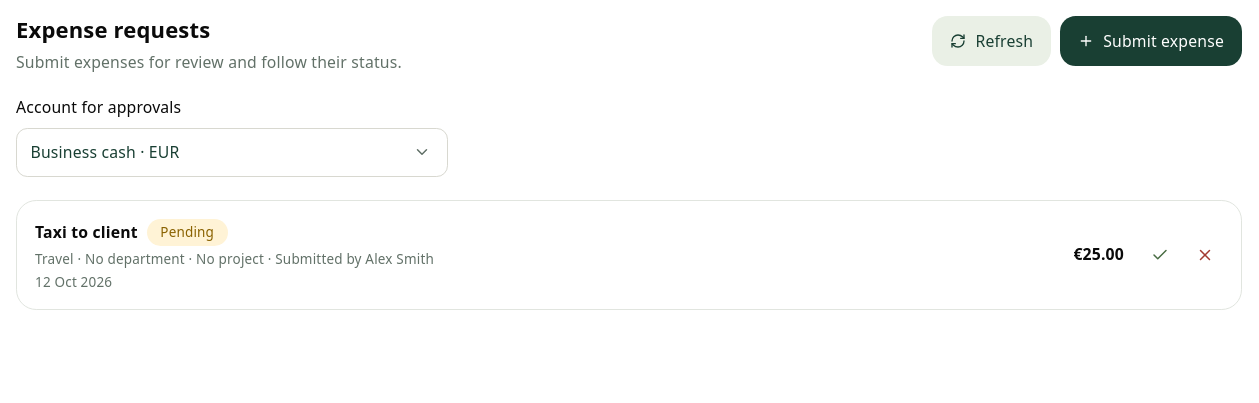
it: keeps a failed approval pending and does not refresh transactions
Click the button named "Approve Taxi to client" at (1160, 255), box [1142,237,1178,273]
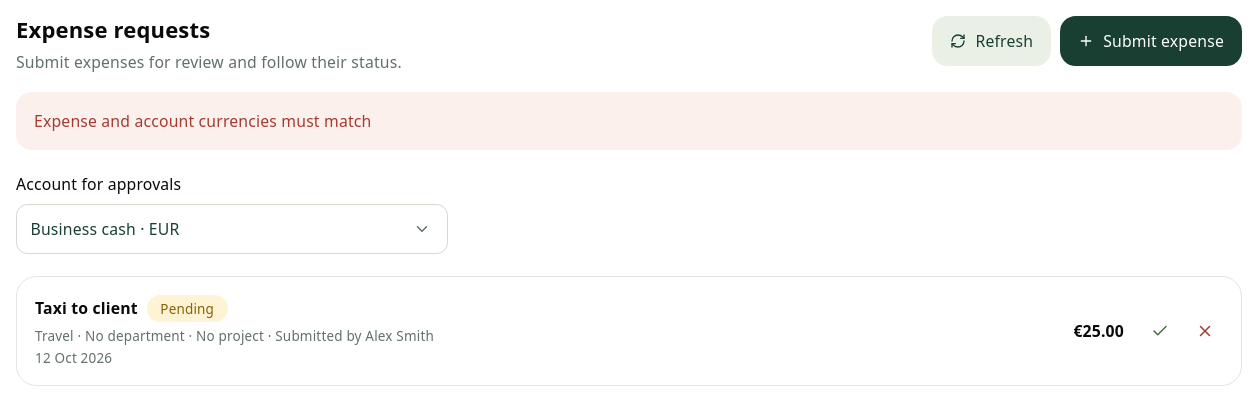
Check: the text "pending" is shown, box [147,295,228,322]
Check: the message reads "Expense and account currencies must match", box [34,110,372,132]
